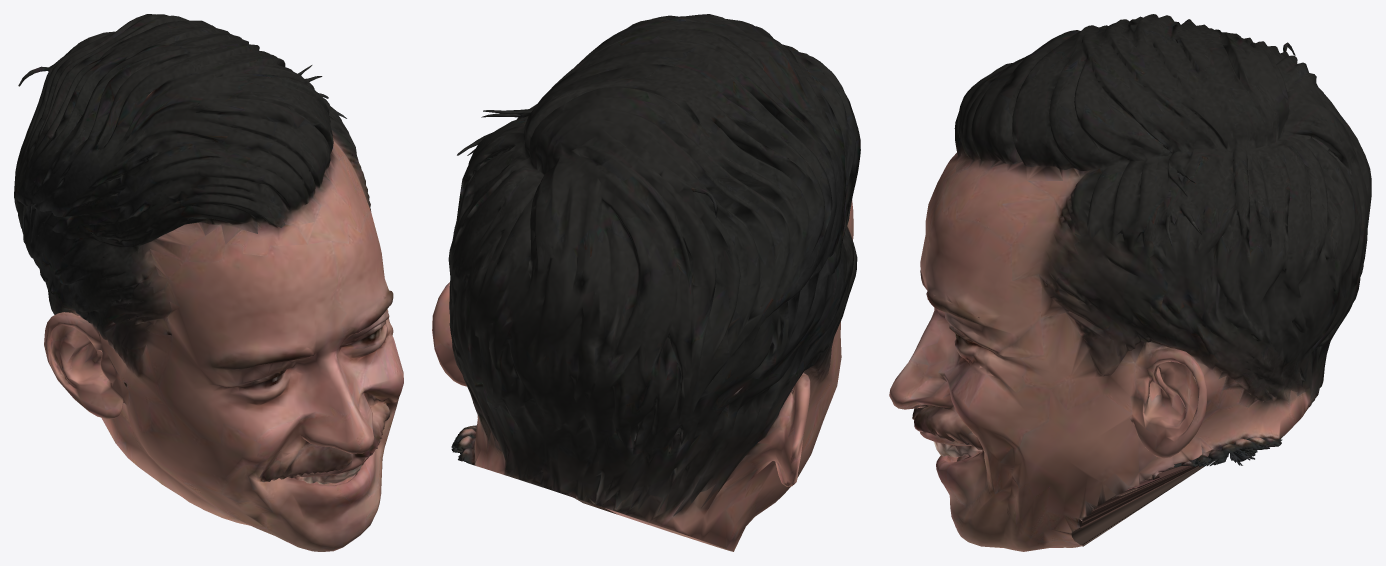
Rendered from head_andrew.glb.
3 renders of one model, left to right at view 1: azimuth 30°, elevation 25°; view 2: azimuth 150°, elevation 25°; view 3: azimuth 270°, elevation 25°, orthographic. The views are drawn at different scales.
Visible parts, largest first — view 1: Mesh_0; view 2: Mesh_0; view 3: Mesh_0.
Boxes of the visible parts, x1,y1,x2,y2 form: Mesh_0: (14, 14, 403, 551); Mesh_0: (432, 14, 860, 551); Mesh_0: (889, 14, 1371, 551).
Bounding box in the file's own units: 0.5601 × 0.7677 × 0.6968.
1 material, 1 textured.
